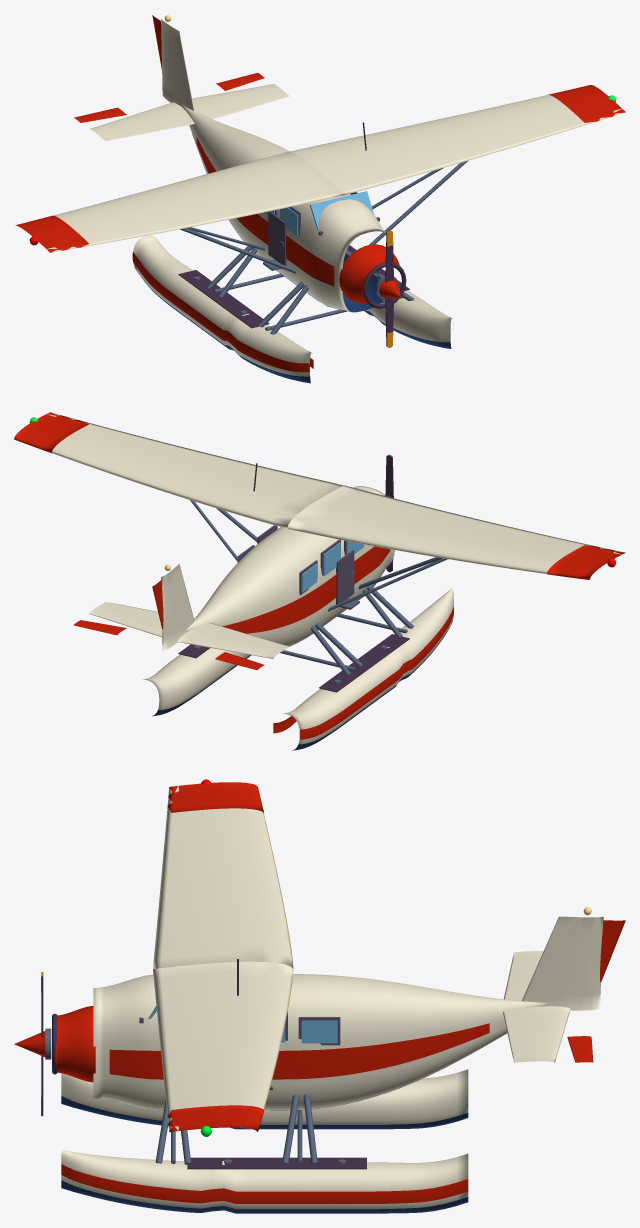
The model's file is hydravion.glb.
3 renders of one model, top to bottom at view 1: azimuth 30°, elevation 25°; view 2: azimuth 150°, elevation 25°; view 3: azimuth 270°, elevation 25°, orthographic. The views are drawn at different scales.
Visible parts, largest first — view 1: aile__blanc, fuselage__blanc, flotteurs__blanc, empennage__blanc, aile__rouge, flotteurs__bleu_fonce2, flotteurs__rouge, fuselage__rouge, haubans__bleu_fonce2, capot__rouge, flotteurs__violet_nuit, fuselage__violet_fonce (+6 smaller); view 2: aile__blanc, fuselage__blanc, flotteurs__blanc, empennage__blanc, aile__rouge, fuselage__rouge, flotteurs__bleu_fonce2, flotteurs__rouge, flotteurs__violet_nuit, fuselage__violet_fonce, haubans__bleu_fonce2, fuselage__bleu (+2 smaller); view 3: aile__blanc, fuselage__blanc, flotteurs__blanc, empennage__blanc, fuselage__rouge, flotteurs__rouge, aile__rouge, flotteurs__bleu_fonce, capot__rouge, flotteurs__bleu_fonce2, flotteurs__violet_nuit, fuselage__bleu (+1 smaller).
Part boxes in pixels (x1=…): aile__blanc: x1=15, y1=95, x2=623, y2=252; fuselage__blanc: x1=182, y1=105, x2=385, y2=312; flotteurs__blanc: x1=133, y1=235, x2=453, y2=382; empennage__blanc: x1=90, y1=19, x2=289, y2=141; aile__rouge: x1=16, y1=85, x2=625, y2=252; flotteurs__bleu_fonce2: x1=194, y1=243, x2=414, y2=334; flotteurs__rouge: x1=132, y1=252, x2=313, y2=372; fuselage__rouge: x1=196, y1=137, x2=334, y2=286; haubans__bleu_fonce2: x1=180, y1=161, x2=467, y2=273; capot__rouge: x1=339, y1=244, x2=399, y2=304; flotteurs__violet_nuit: x1=178, y1=245, x2=409, y2=328; fuselage__violet_fonce: x1=268, y1=192, x2=379, y2=265; aile__blanc: x1=48, y1=413, x2=622, y2=578; fuselage__blanc: x1=185, y1=486, x2=394, y2=646; flotteurs__blanc: x1=143, y1=588, x2=453, y2=749; empennage__blanc: x1=89, y1=563, x2=289, y2=658; aile__rouge: x1=14, y1=412, x2=625, y2=579; fuselage__rouge: x1=222, y1=546, x2=390, y2=633; flotteurs__bleu_fonce2: x1=194, y1=585, x2=414, y2=683; flotteurs__rouge: x1=273, y1=607, x2=453, y2=739; flotteurs__violet_nuit: x1=178, y1=634, x2=409, y2=692; fuselage__violet_fonce: x1=236, y1=525, x2=364, y2=604; haubans__bleu_fonce2: x1=190, y1=500, x2=447, y2=611; fuselage__bleu: x1=237, y1=541, x2=363, y2=592; aile__blanc: x1=153, y1=786, x2=293, y2=1131; fuselage__blanc: x1=93, y1=974, x2=548, y2=1110; flotteurs__blanc: x1=61, y1=1069, x2=468, y2=1209; empennage__blanc: x1=503, y1=916, x2=603, y2=1062; fuselage__rouge: x1=109, y1=1023, x2=489, y2=1079; flotteurs__rouge: x1=61, y1=1164, x2=468, y2=1203; aile__rouge: x1=167, y1=782, x2=264, y2=1132; flotteurs__bleu_fonce: x1=61, y1=1096, x2=468, y2=1213; capot__rouge: x1=55, y1=1006, x2=95, y2=1082; flotteurs__bleu_fonce2: x1=155, y1=1094, x2=346, y2=1164; flotteurs__violet_nuit: x1=187, y1=1157, x2=366, y2=1169; fuselage__bleu: x1=148, y1=1006, x2=337, y2=1043.
Bounding box in the file's own units: 10.17 × 3.52 × 7.49.
